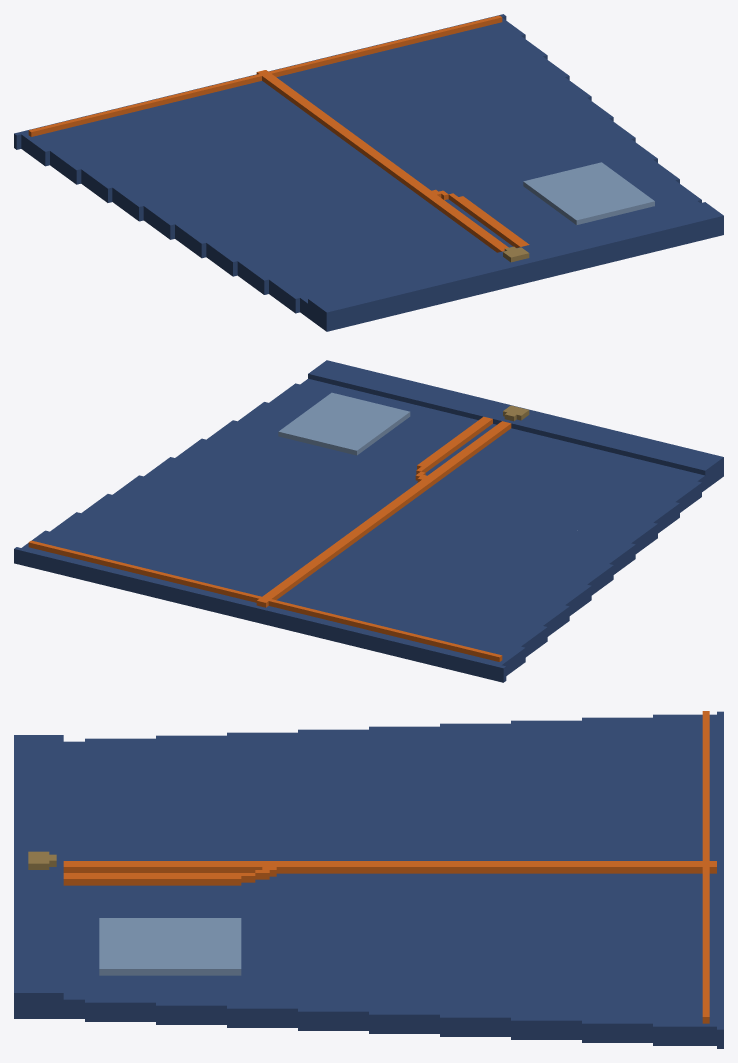
The model's file is skirt_denim.glb.
The picture shows the model from 3 angles, top to bottom: view 1: azimuth 30°, elevation 25°; view 2: azimuth 150°, elevation 25°; view 3: azimuth 270°, elevation 25°; orthographic projection. The views are drawn at different scales.
Parts seen in each view (by area): view 1: skirt_denim:compound; view 2: skirt_denim:compound; view 3: skirt_denim:compound.
Part boxes in pixels (bbox=[...]): skirt_denim:compound: bbox=[14, 14, 723, 331]; skirt_denim:compound: bbox=[14, 360, 723, 682]; skirt_denim:compound: bbox=[14, 711, 723, 1048].
Bounding box in the file's own units: 0.424 × 0.02 × 0.4.
